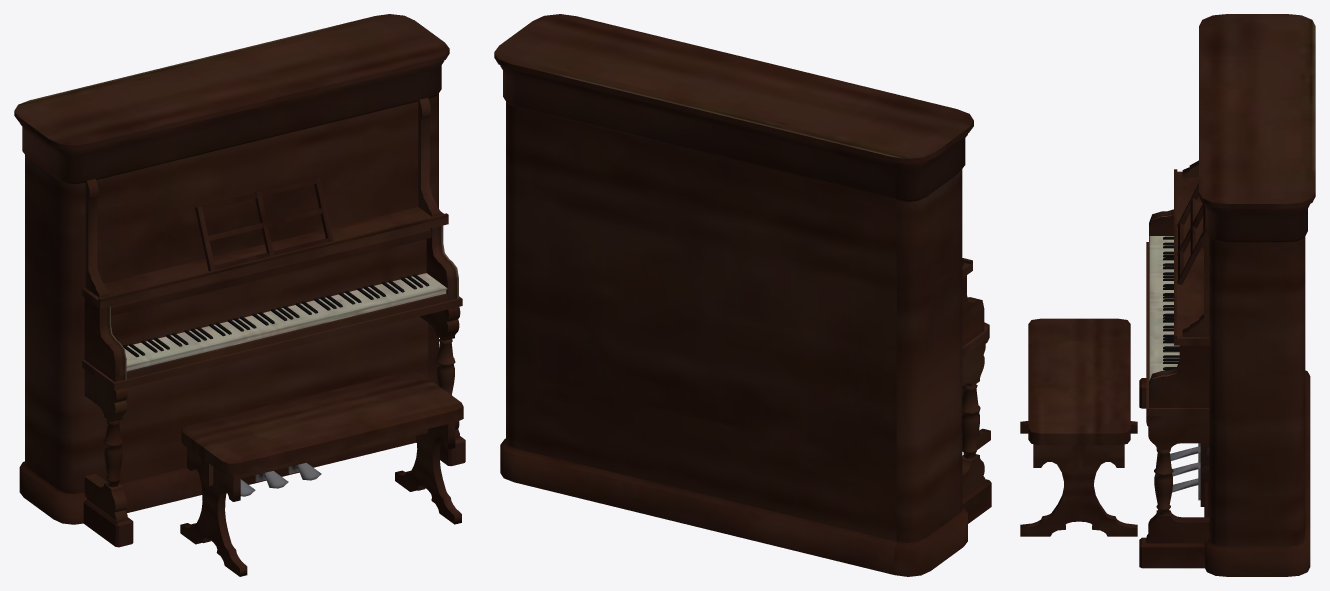
The model's file is SM_Piano_set_3052a4.glb.
3 renders of one model, left to right at view 1: azimuth 30°, elevation 25°; view 2: azimuth 150°, elevation 25°; view 3: azimuth 270°, elevation 25°, orthographic. The views are drawn at different scales.
Bounding box in the file's own units: 1.64 × 1.51 × 1.07.
Materials: 2 (2 with a texture image).
